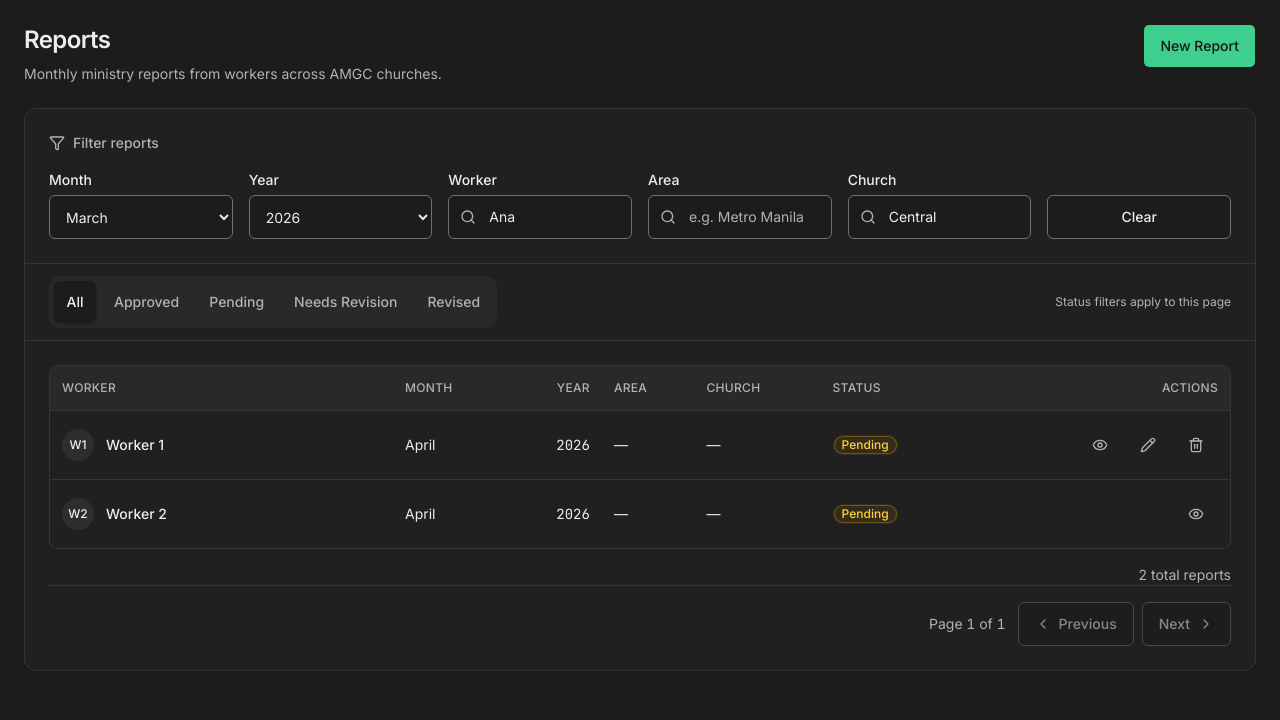
Test case: reports list: delete › keeps the filters in the URL after a delete
Expected: the text "Worker 1" is shown, [106,434,164,454]
Click the button named "Delete ". click: (1196, 444)
box: [1174,422,1218,466]
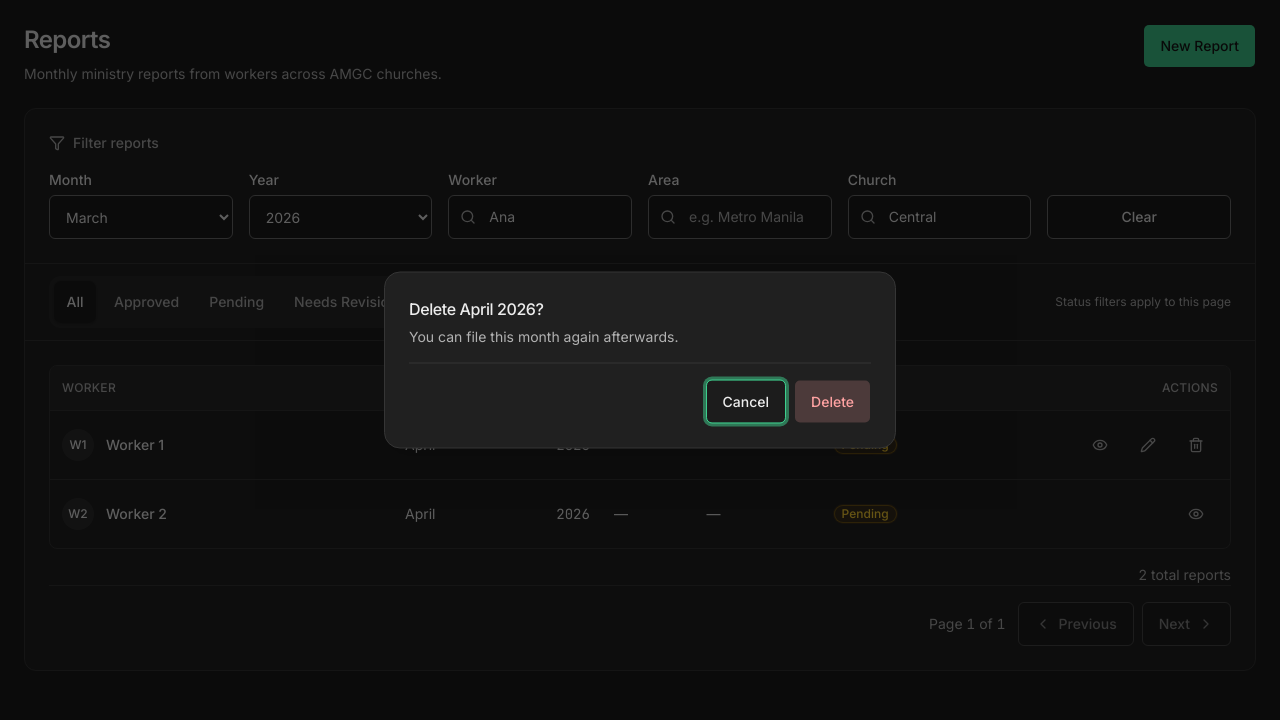
Click the button "Delete". click: (833, 402)
box: [794,380,871,424]
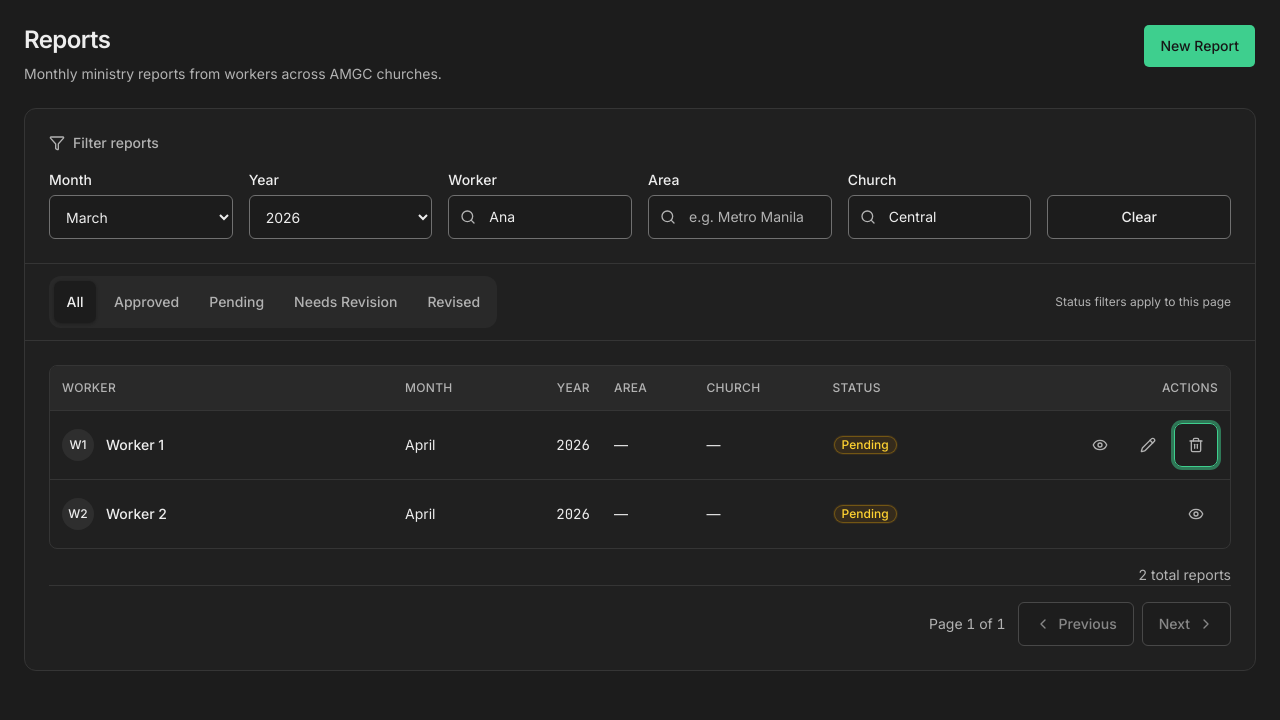
Expected: the dialog is gone
